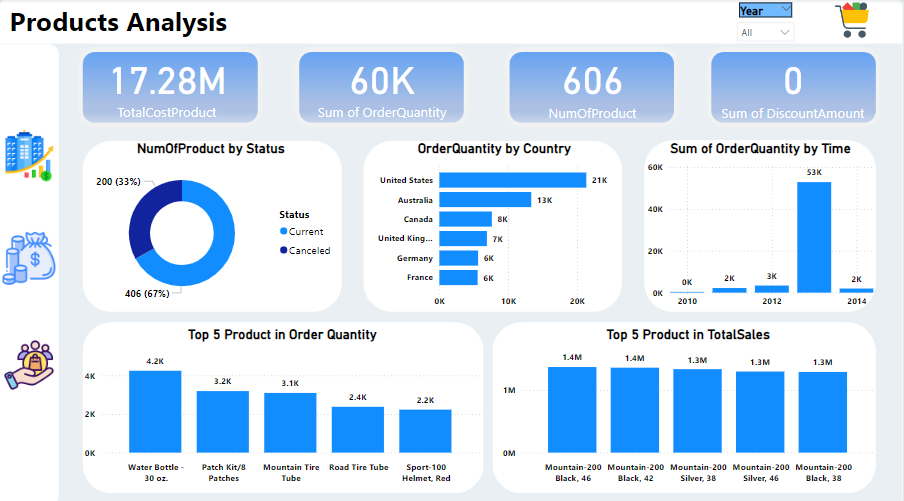

What the dashboard file says about the page in this screenshot:
{"tool":"powerbi","page":{"name":"Products","canvas":[1280,720],"ordinal":3},"visuals":[{"type":"textbox","box":[9.9,0,337.3,59.5],"z":0},{"type":"image","box":[0,473.3,85,91.7],"z":1000},{"type":"image","box":[0,172.5,85.5,98.6],"z":2000},{"type":"image","box":[0,323.3,85,88.3],"z":3000},{"type":"image","box":[1136.7,0,143.3,60],"z":4000},{"type":"card","fields":{"Values":["fact_InternetSales.TotalCostProduct"]},"box":[128.3,60,218.3,123.3],"z":5000},{"type":"card","fields":{"Values":["Sum(fact_InternetSales.OrderQuantity)"]},"box":[433.3,60,218.3,123.3],"z":6000},{"type":"card","fields":{"Values":["dim_Product.NumOfProduct"]},"box":[723.3,46.7,236.7,150],"z":7000},{"type":"card","fields":{"Values":["Sum(fact_InternetSales.DiscountAmount)"]},"box":[1006.7,46.7,238.3,150],"z":8000},{"type":"columnChart","title":"Top 5 Product in TotalSales","fields":{"Category":["dim_Product.EnglishProductName"],"Y":["fact_InternetSales.TotalSales"]},"box":[708.7,463.8,536.2,230.4],"z":9000},{"type":"columnChart","title":"Top 5 Product in Order Quantity","fields":{"Y":["Sum(fact_InternetSales.OrderQuantity)"],"Category":["dim_Product.EnglishProductName"]},"box":[115.9,463.8,571,230.4],"z":10000},{"type":"donutChart","fields":{"Y":["dim_Product.NumOfProduct"],"Category":["dim_Product.Status"]},"box":[115.9,200,368.1,242],"z":11000},{"type":"barChart","title":"OrderQuantity by Country","fields":{"Y":["Sum(fact_InternetSales.OrderQuantity)"],"Category":["dim_SalesRegion.SalesTerritoryCountry"]},"box":[520.3,200,363.8,246.4],"z":12000},{"type":"columnChart","title":"Sum of OrderQuantity by Time","fields":{"Y":["Sum(fact_InternetSales.OrderQuantity)"],"Category":["Calender.Date.Variation.Date Hierarchy.Year","Calender.Date.Variation.Date Hierarchy.Quarter","Calender.Date.Variation.Date Hierarchy.Month","Calender.Date.Variation.Date Hierarchy.Day"]},"box":[914.5,200,330.4,246.4],"z":13000},{"type":"slicer","fields":{"Values":["Calender.Year"]},"box":[1036.1,0,100.6,72.3],"z":14000}]}

Visuals, with their boxes in screenshot pixels (x1, y1, x2, y2), scaled from the page's 1280x720 canvas onto the 904x501 screenshot:
textbox: {"x1": 7, "y1": 0, "x2": 245, "y2": 41}
image: {"x1": 0, "y1": 329, "x2": 60, "y2": 393}
image: {"x1": 0, "y1": 120, "x2": 60, "y2": 189}
image: {"x1": 0, "y1": 225, "x2": 60, "y2": 286}
image: {"x1": 803, "y1": 0, "x2": 903, "y2": 42}
card - fact_InternetSales.TotalCostProduct: {"x1": 91, "y1": 42, "x2": 245, "y2": 128}
card - Sum(fact_InternetSales.OrderQuantity): {"x1": 306, "y1": 42, "x2": 460, "y2": 128}
card - dim_Product.NumOfProduct: {"x1": 511, "y1": 32, "x2": 678, "y2": 137}
card - Sum(fact_InternetSales.DiscountAmount): {"x1": 711, "y1": 32, "x2": 879, "y2": 137}
"Top 5 Product in TotalSales" columnChart: {"x1": 501, "y1": 323, "x2": 879, "y2": 483}
"Top 5 Product in Order Quantity" columnChart: {"x1": 82, "y1": 323, "x2": 485, "y2": 483}
donutChart - dim_Product.NumOfProduct x dim_Product.Status: {"x1": 82, "y1": 139, "x2": 342, "y2": 308}
"OrderQuantity by Country" barChart: {"x1": 367, "y1": 139, "x2": 624, "y2": 311}
"Sum of OrderQuantity by Time" columnChart: {"x1": 646, "y1": 139, "x2": 879, "y2": 311}
slicer - Calender.Year: {"x1": 732, "y1": 0, "x2": 803, "y2": 50}
